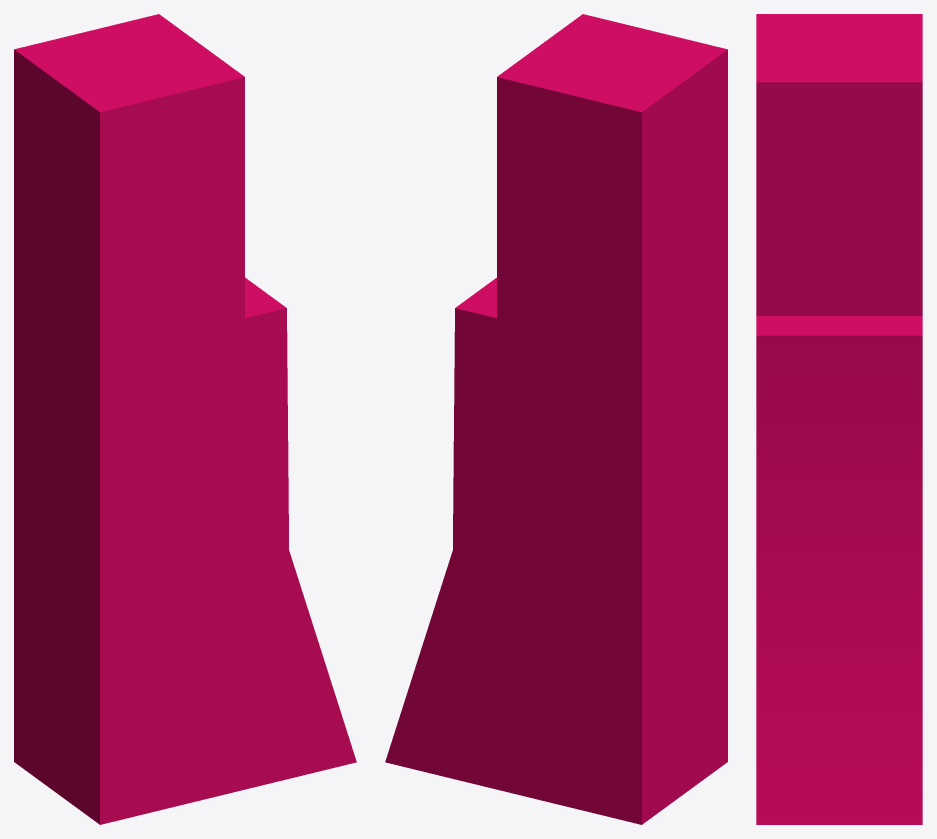
File: Wall_Orn_02.fbx
The picture shows the model from 3 angles, left to right: view 1: azimuth 30°, elevation 25°; view 2: azimuth 150°, elevation 25°; view 3: azimuth 270°, elevation 25°; orthographic projection. The views are drawn at different scales.
Parts seen in each view (by area): view 1: Wall_Orn_02; view 2: Wall_Orn_02; view 3: Wall_Orn_02.
Part boxes in pixels (<box>): Wall_Orn_02: <box>14,14,356,824</box>; Wall_Orn_02: <box>385,14,727,824</box>; Wall_Orn_02: <box>756,14,922,824</box>.
Bounding box in the file's own units: 595 × 1577 × 345.
